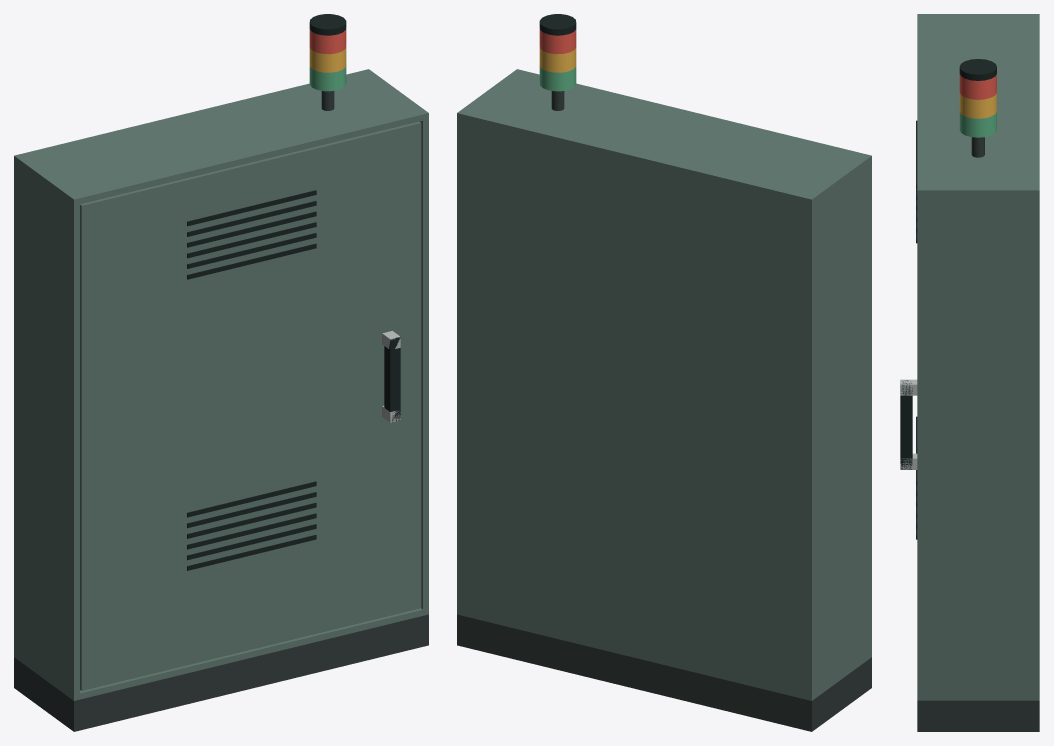
The model's file is electrical-cabinet.glb.
3 renders of one model, left to right at view 1: azimuth 30°, elevation 25°; view 2: azimuth 150°, elevation 25°; view 3: azimuth 270°, elevation 25°, orthographic.
Parts seen in each view (by area): view 1: CabinetDoor, LeftWall, TopPanel, Plinth, RightWall, BottomPanel, BackPanel, HandleGrip, Green, Yellow, Red, VentSlots3 (+12 smaller); view 2: BackPanel, LeftWall, TopPanel, Plinth, RightWall, BottomPanel, Green, Yellow, Red, SignalCap; view 3: RightWall, TopPanel, BackPanel, Plinth, HandleGrip, Green, Yellow, Red, SignalCap, LeftWall, HandleMountTop, SignalPole.
Boxes of the visible parts, left/top/right/bottom form: CabinetDoor: left=80, top=121, right=421, bottom=690; LeftWall: left=14, top=154, right=79, bottom=700; TopPanel: left=20, top=70, right=422, bottom=204; Plinth: left=14, top=614, right=428, bottom=731; RightWall: left=363, top=69, right=428, bottom=615; BottomPanel: left=80, top=608, right=422, bottom=699; BackPanel: left=14, top=69, right=371, bottom=658; HandleGrip: left=384, top=336, right=400, bottom=422; Green: left=309, top=65, right=346, bottom=91; Yellow: left=309, top=46, right=346, bottom=72; Red: left=309, top=27, right=346, bottom=54; VentSlots3: left=187, top=222, right=316, bottom=258; BackPanel: left=457, top=110, right=815, bottom=700; LeftWall: left=806, top=154, right=871, bottom=698; TopPanel: left=463, top=70, right=865, bottom=203; Plinth: left=457, top=614, right=871, bottom=731; RightWall: left=457, top=69, right=522, bottom=615; BottomPanel: left=463, top=610, right=726, bottom=677; Green: left=539, top=65, right=576, bottom=91; Yellow: left=539, top=46, right=576, bottom=72; Red: left=539, top=27, right=576, bottom=54; SignalCap: left=539, top=14, right=576, bottom=35; RightWall: left=917, top=187, right=1039, bottom=700; TopPanel: left=917, top=17, right=1039, bottom=187; BackPanel: left=1032, top=14, right=1039, bottom=700; Plinth: left=917, top=700, right=1039, bottom=731; HandleGrip: left=900, top=380, right=912, bottom=469; Green: left=959, top=111, right=996, bottom=137; Yellow: left=959, top=93, right=996, bottom=118; Red: left=959, top=74, right=996, bottom=99; SignalCap: left=959, top=59, right=996, bottom=80; LeftWall: left=917, top=14, right=1039, bottom=16; HandleMountTop: left=900, top=379, right=917, bottom=395; SignalPole: left=971, top=137, right=984, bottom=157.
Size of the model in its own units: 1.2 by 2 by 0.4.
